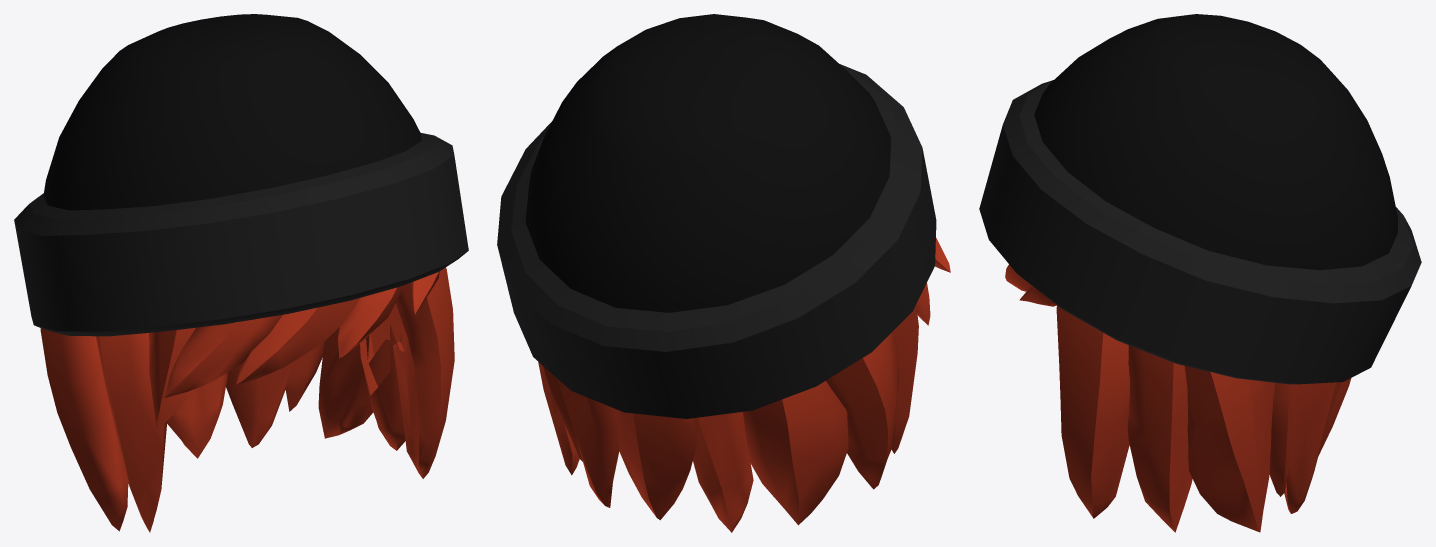
Rendered from HairWithHat.fbx.
3 views of the same model, side by side, from view 1: azimuth 30°, elevation 25°; view 2: azimuth 150°, elevation 25°; view 3: azimuth 270°, elevation 25° (orthographic). The views are drawn at different scales.
Parts seen in each view (by area): view 1: cap; view 2: cap; view 3: cap.
Part boxes in pixels (box(x1,y1,x2,y2)): cap: box(14, 14, 468, 532); cap: box(497, 14, 950, 532); cap: box(979, 14, 1421, 532).
Bounding box in the file's own units: 0.6785 × 0.7865 × 0.6985.
